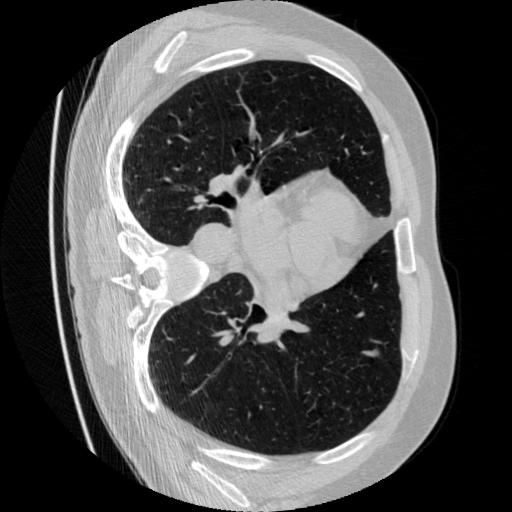nodule: (365, 347, 381, 363)
